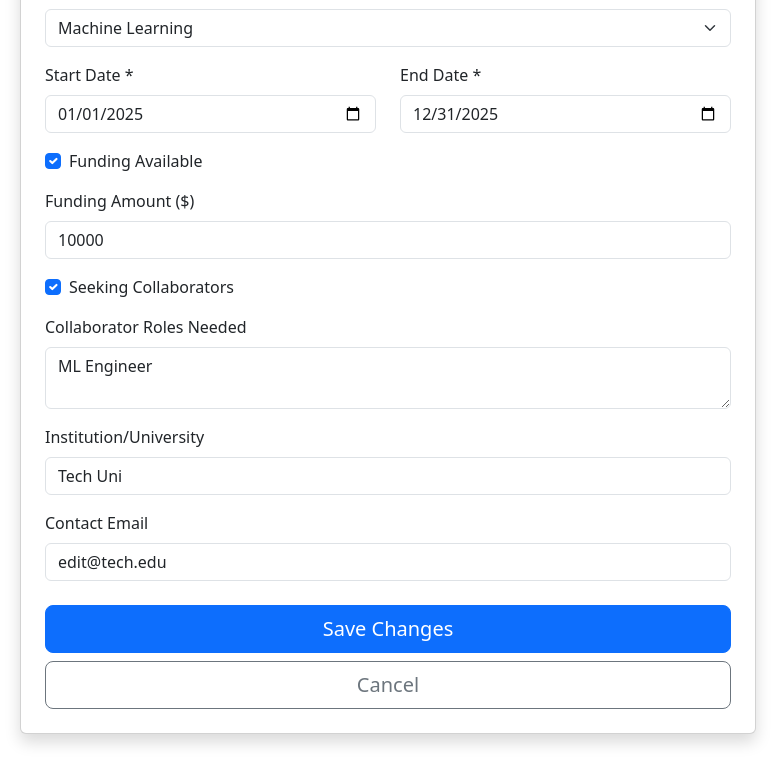
Scenario: EditProject › displays error if project update fails
(page scrolled)
Click the button "Save Changes". click: [388, 629]
box: [45,605,731,653]
(page scrolled)
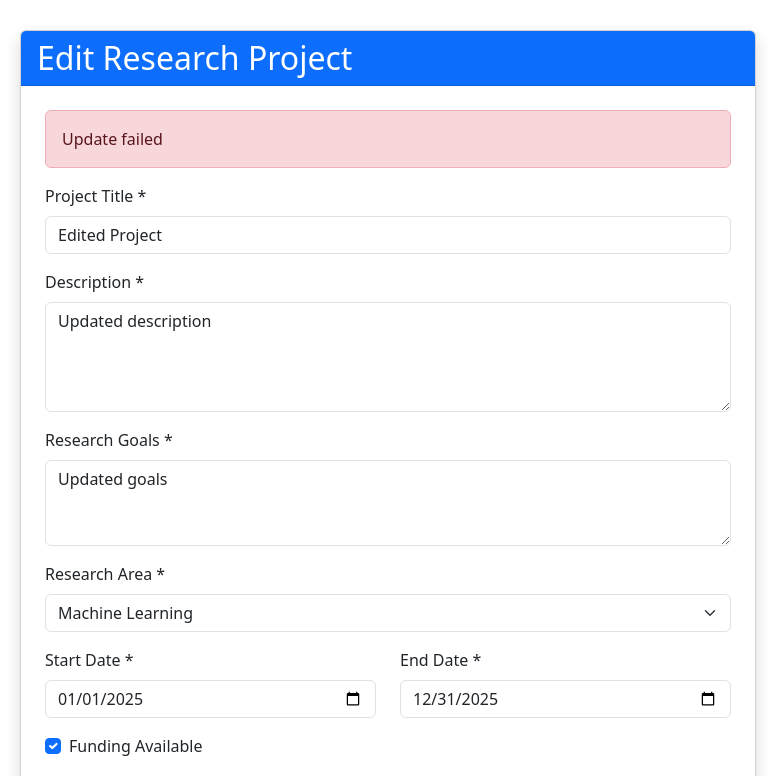
Now the text "Update failed" is shown, box [45,110,731,168]
